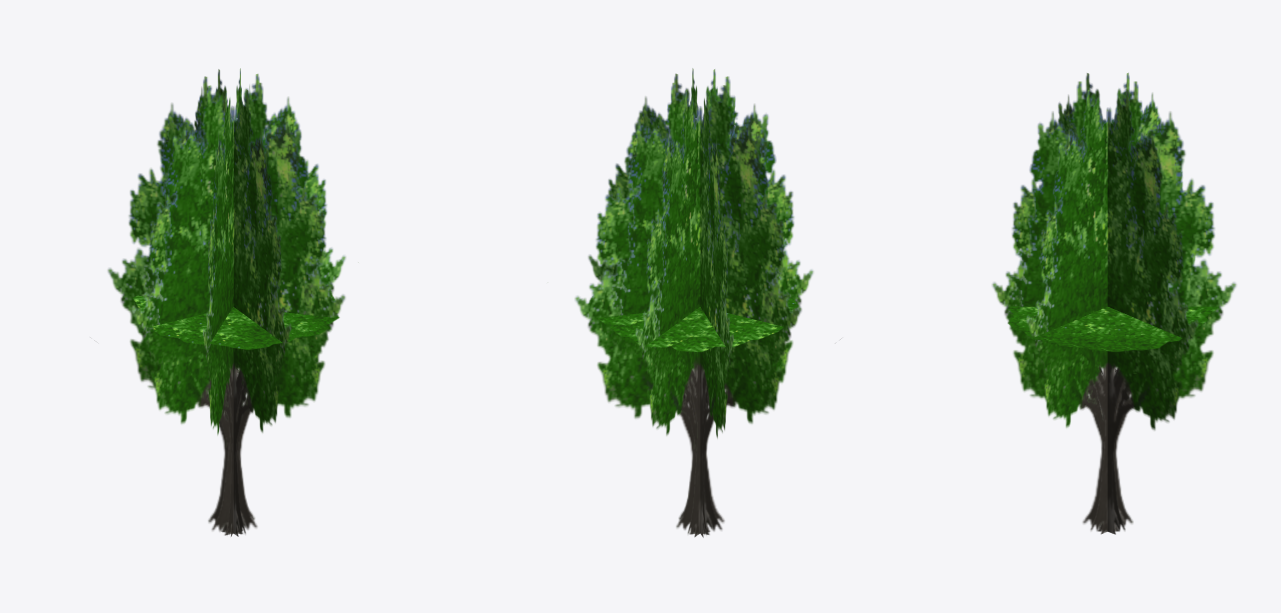
3 renders of one model, left to right at view 1: azimuth 30°, elevation 25°; view 2: azimuth 150°, elevation 25°; view 3: azimuth 270°, elevation 25°, orthographic.
Parts seen in each view (by area): view 1: planeobj; view 2: planeobj; view 3: planeobj.
Boxes of the visible parts, bbox=[...] form: planeobj: bbox=[107, 68, 345, 536]; planeobj: bbox=[575, 68, 840, 537]; planeobj: bbox=[992, 73, 1236, 534].
Bounding box in the file's own units: 18.01 × 28.08 × 18.02.
1 material, 1 textured.
